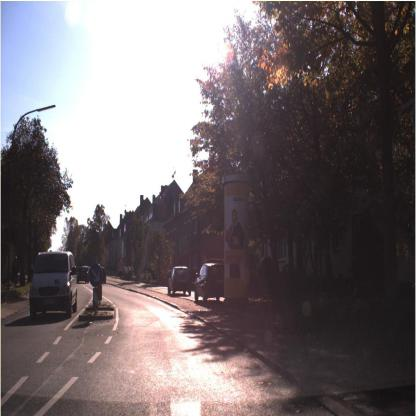mandatory: (86, 263, 105, 288)
